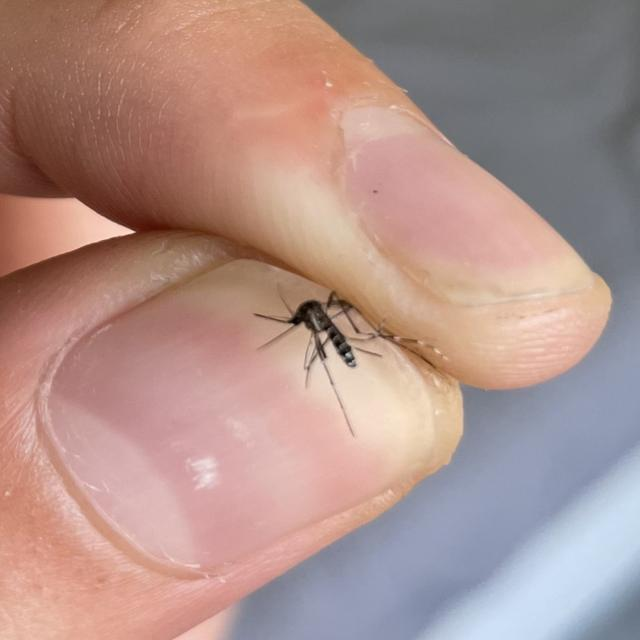albopictus: (240, 274, 471, 435)
